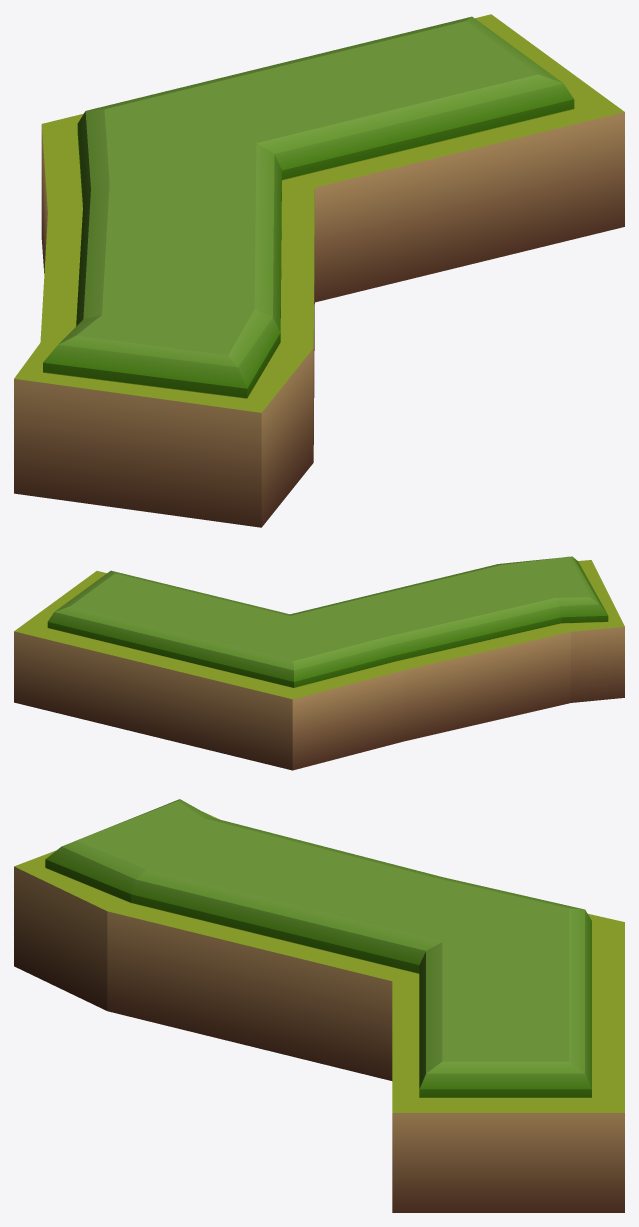
Rendered from Y_Intersect_Grass_Right.fbx.
The picture shows the model from 3 angles, top to bottom: view 1: azimuth 30°, elevation 25°; view 2: azimuth 150°, elevation 25°; view 3: azimuth 270°, elevation 25°; orthographic projection. The views are drawn at different scales.
Parts seen in each view (by area): view 1: Y_Intersect_Grass_Right; view 2: Y_Intersect_Grass_Right; view 3: Y_Intersect_Grass_Right.
Boxes of the visible parts, x1=… form: Y_Intersect_Grass_Right: x1=14, y1=14, x2=624, y2=527; Y_Intersect_Grass_Right: x1=14, y1=556, x2=624, y2=770; Y_Intersect_Grass_Right: x1=14, y1=799, x2=624, y2=1212.
Bounding box in the file's own units: 255 × 48.52 × 212.
